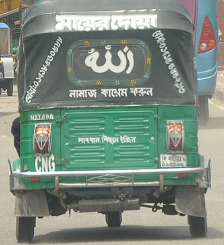cng: (8, 0, 215, 245)
